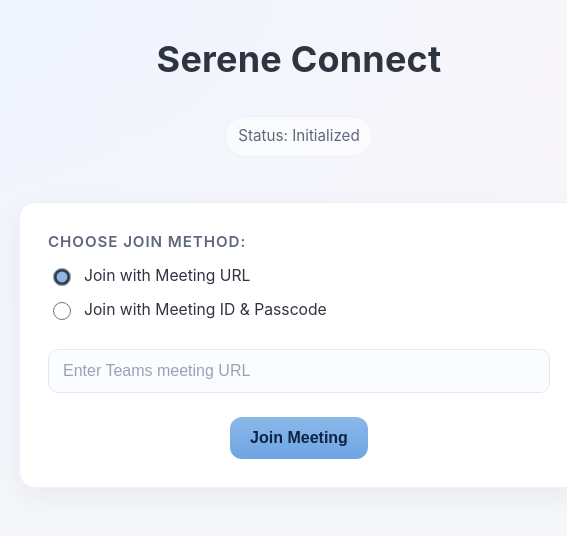
Test case: App › allows switching to meeting ID join method
The image size is (567, 536).
Expected: the text "Status: Initialized" is shown, [225,116,373,157]
Click the radio button labelled "Join with Meeting ID & Passcode".
click(62, 311)  # box [53,302,71,320]
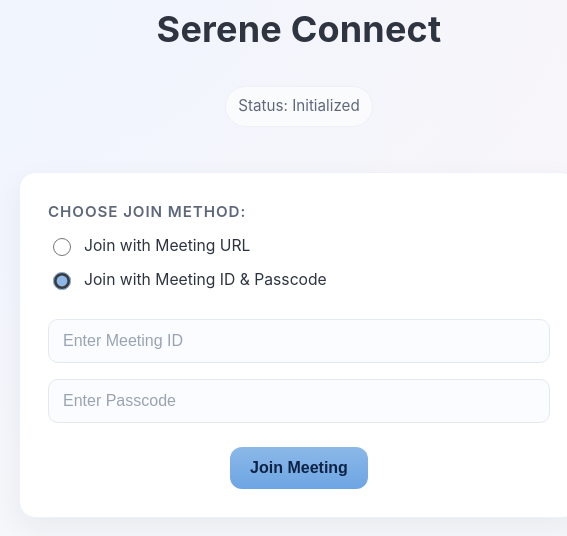
Expected: the field with placeholder "Enter Meeting ID" is shown, [48,319,550,363]
Expected: the field with placeholder "Enter Passcode" is shown, [48,379,550,423]
